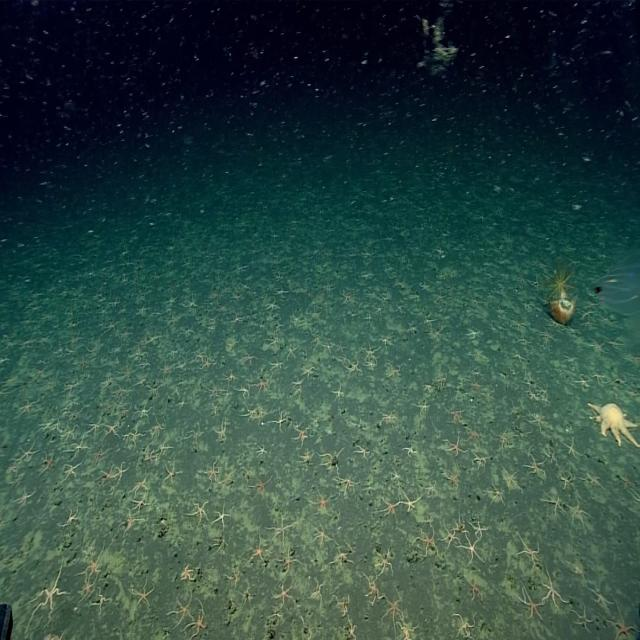brittle-stars: (31, 564, 65, 619), (610, 607, 637, 640), (381, 594, 404, 631), (519, 587, 544, 621), (542, 572, 564, 610), (269, 515, 293, 546), (82, 549, 106, 580), (518, 534, 541, 566), (132, 580, 156, 610), (170, 594, 193, 624), (416, 527, 438, 557), (310, 488, 333, 516), (461, 534, 482, 563), (191, 604, 209, 637), (574, 604, 595, 632), (452, 614, 474, 640), (249, 536, 267, 567), (543, 491, 565, 516), (363, 574, 381, 604), (272, 582, 294, 606), (17, 442, 39, 466), (189, 499, 210, 524), (568, 499, 588, 525), (15, 486, 38, 508), (249, 475, 270, 499), (332, 544, 352, 569), (322, 448, 344, 470), (399, 489, 420, 512), (445, 436, 466, 458), (526, 455, 547, 477), (279, 549, 299, 572), (501, 466, 520, 490), (67, 437, 88, 458), (486, 484, 506, 506), (121, 512, 141, 534), (482, 480, 502, 502), (442, 524, 460, 548), (376, 551, 394, 575), (94, 588, 111, 613), (338, 475, 358, 496), (313, 523, 331, 546), (213, 506, 231, 529), (563, 438, 581, 461), (63, 460, 83, 480), (528, 411, 548, 431), (164, 460, 181, 483), (218, 468, 235, 491), (445, 464, 461, 488), (466, 577, 482, 601), (81, 577, 97, 601), (399, 621, 419, 640), (204, 461, 221, 483), (186, 422, 203, 444), (131, 494, 150, 513), (126, 426, 144, 446), (18, 400, 38, 418), (62, 508, 80, 528), (466, 422, 481, 445), (206, 381, 224, 400), (620, 474, 639, 492), (452, 518, 470, 537), (271, 412, 288, 432), (470, 518, 486, 539), (150, 418, 166, 439), (253, 377, 270, 396), (132, 478, 149, 497), (382, 497, 399, 516), (292, 424, 308, 444), (180, 562, 195, 583), (584, 472, 602, 489), (93, 445, 109, 464), (214, 420, 228, 441), (40, 452, 54, 473), (381, 410, 398, 427), (62, 423, 78, 441), (448, 408, 464, 426), (559, 469, 574, 488), (114, 462, 128, 482), (344, 620, 358, 640), (498, 429, 510, 452), (355, 441, 371, 458), (240, 349, 256, 366), (591, 368, 607, 385), (384, 361, 400, 378), (590, 339, 606, 356), (604, 336, 622, 351), (333, 380, 345, 402), (472, 452, 488, 468), (300, 449, 315, 466), (89, 418, 103, 436), (390, 367, 404, 385), (104, 422, 119, 438), (362, 344, 378, 359), (145, 331, 160, 347), (137, 403, 151, 420), (99, 469, 113, 486), (240, 405, 254, 422), (425, 479, 438, 497), (346, 358, 360, 374), (237, 384, 251, 400), (112, 383, 126, 399), (404, 443, 418, 459), (470, 346, 484, 362), (285, 343, 298, 360), (469, 377, 482, 394), (289, 310, 302, 327), (415, 402, 430, 416), (575, 375, 589, 390), (270, 356, 284, 371), (271, 363, 286, 377), (513, 318, 528, 332), (301, 370, 316, 384), (266, 298, 279, 314), (300, 364, 314, 378), (276, 284, 290, 298), (232, 312, 246, 326), (223, 371, 236, 386), (162, 360, 174, 376), (466, 326, 480, 339), (363, 358, 377, 371), (202, 356, 215, 370), (136, 304, 149, 318), (514, 349, 526, 364), (144, 450, 156, 464), (192, 349, 204, 363), (391, 468, 402, 483), (256, 444, 267, 457), (337, 341, 347, 355), (538, 385, 548, 398)
